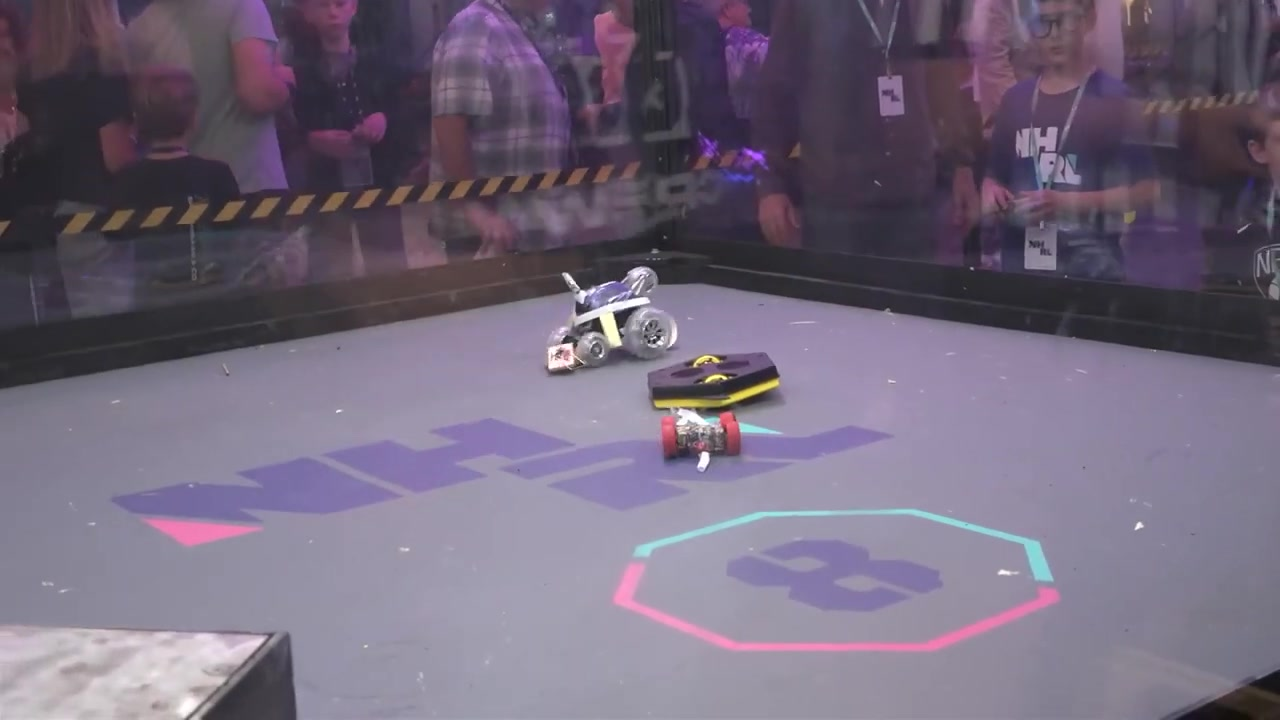combatbot: (547, 266, 678, 377), (648, 351, 785, 409)
housebot: (2, 629, 298, 719)
minibot: (658, 408, 743, 456)
